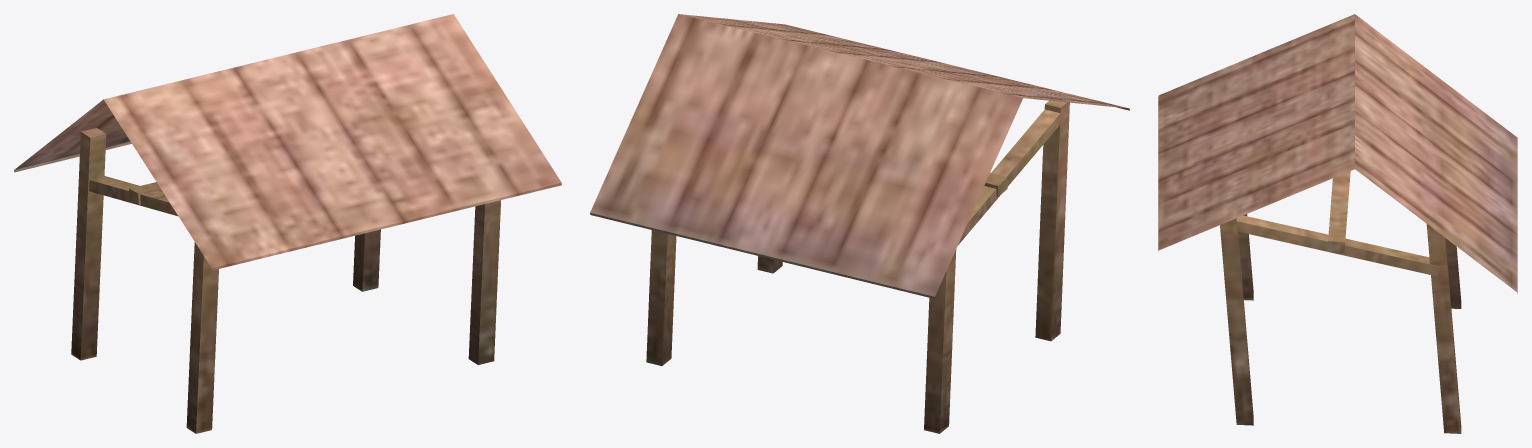
File: thatched hut.fbx
3 views of the same model, side by side, from view 1: azimuth 30°, elevation 25°; view 2: azimuth 150°, elevation 25°; view 3: azimuth 270°, elevation 25° (orthographic). The views are drawn at different scales.
Visible parts, largest first — view 1: thatched hut; view 2: thatched hut; view 3: thatched hut.
Part boxes in pixels (bbox=[...]): thatched hut: bbox=[14, 14, 561, 433]; thatched hut: bbox=[590, 14, 1129, 433]; thatched hut: bbox=[1158, 14, 1517, 433].
Size of the model in its own units: 3675 by 3053 by 3597.
